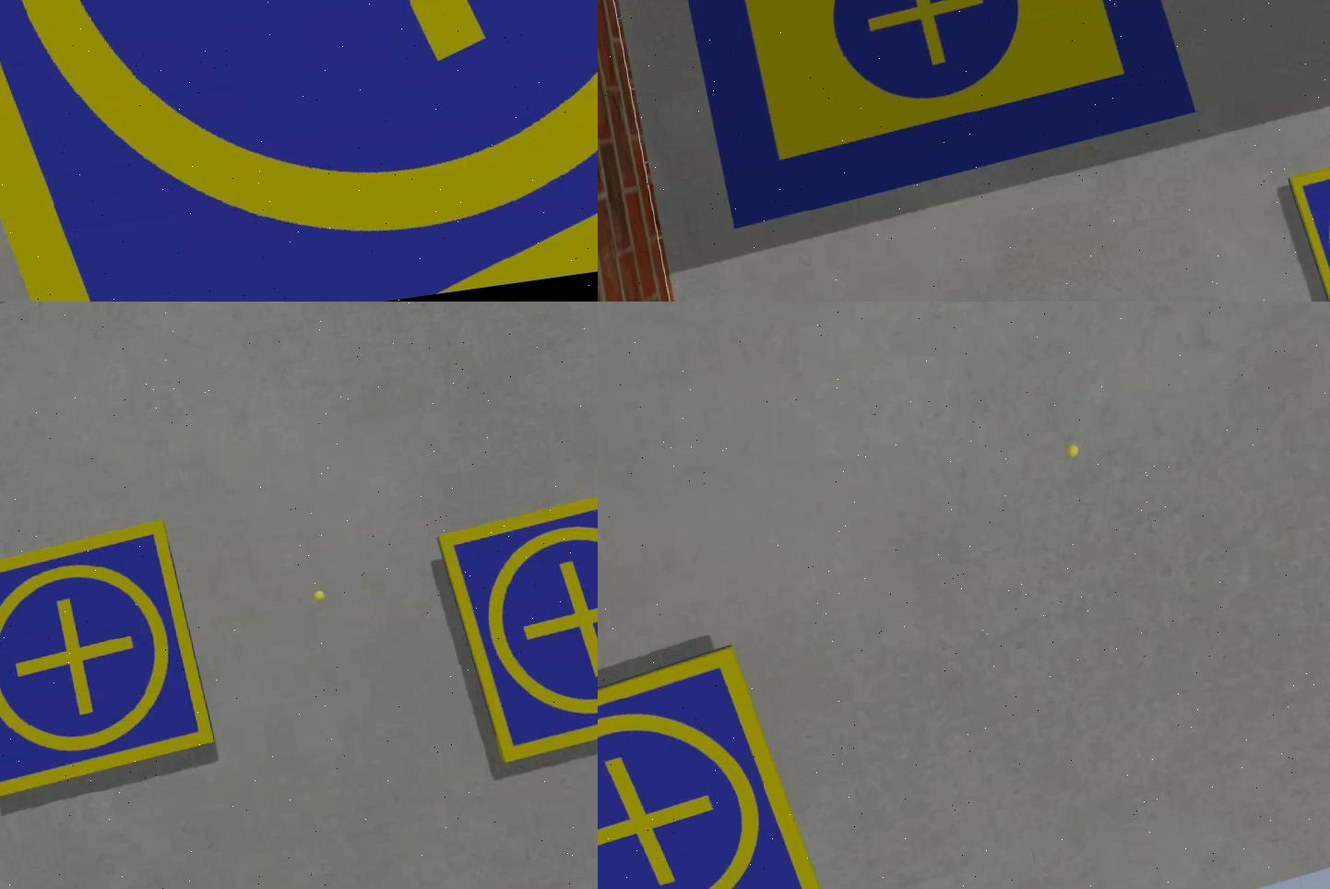large_base: (665, 1, 1204, 234)
small_base: (1, 1, 599, 302), (1, 516, 222, 808), (599, 637, 830, 889), (433, 479, 599, 772)
